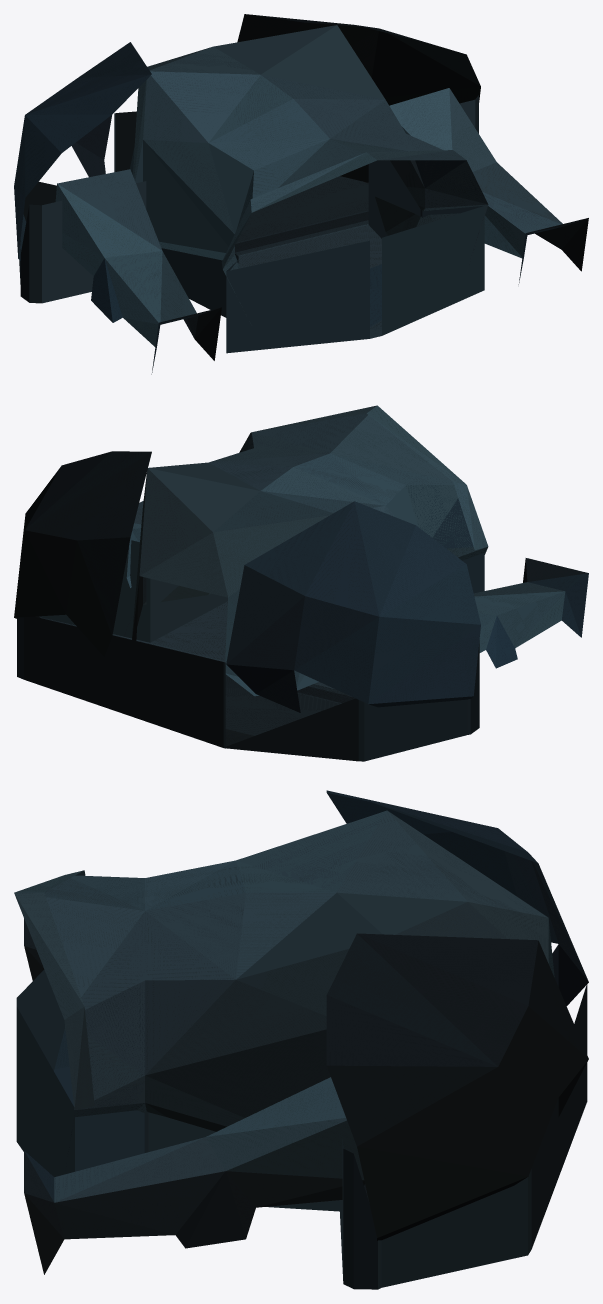
Rendered from runite-platebody.obj.
3 renders of one model, top to bottom at view 1: azimuth 30°, elevation 25°; view 2: azimuth 150°, elevation 25°; view 3: azimuth 270°, elevation 25°, orthographic. The views are drawn at different scales.
Visible parts, largest first — view 1: Item Rune platebody 2026-09-24_18-19-38; view 2: Item Rune platebody 2026-09-24_18-19-38; view 3: Item Rune platebody 2026-09-24_18-19-38.
Boxes of the visible parts, x1,y1,x2,y2 form: Item Rune platebody 2026-09-24_18-19-38: [14, 14, 588, 374]; Item Rune platebody 2026-09-24_18-19-38: [14, 405, 588, 761]; Item Rune platebody 2026-09-24_18-19-38: [14, 790, 588, 1289].
Bounding box in the file's own units: 72 × 30 × 57.
